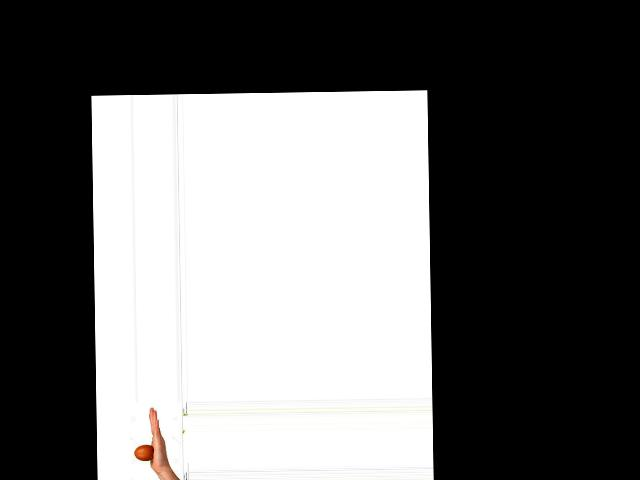egg: (134, 444, 154, 460)
